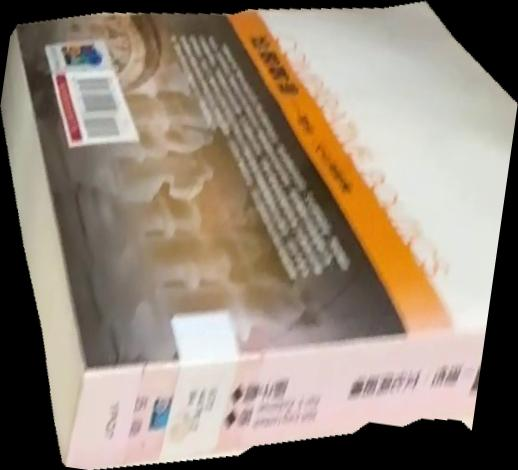flat: (1, 1, 518, 470)
